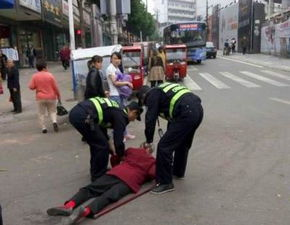fall: (43, 140, 161, 220)
